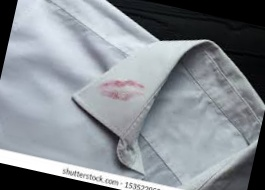lipstick: (99, 78, 145, 107)
